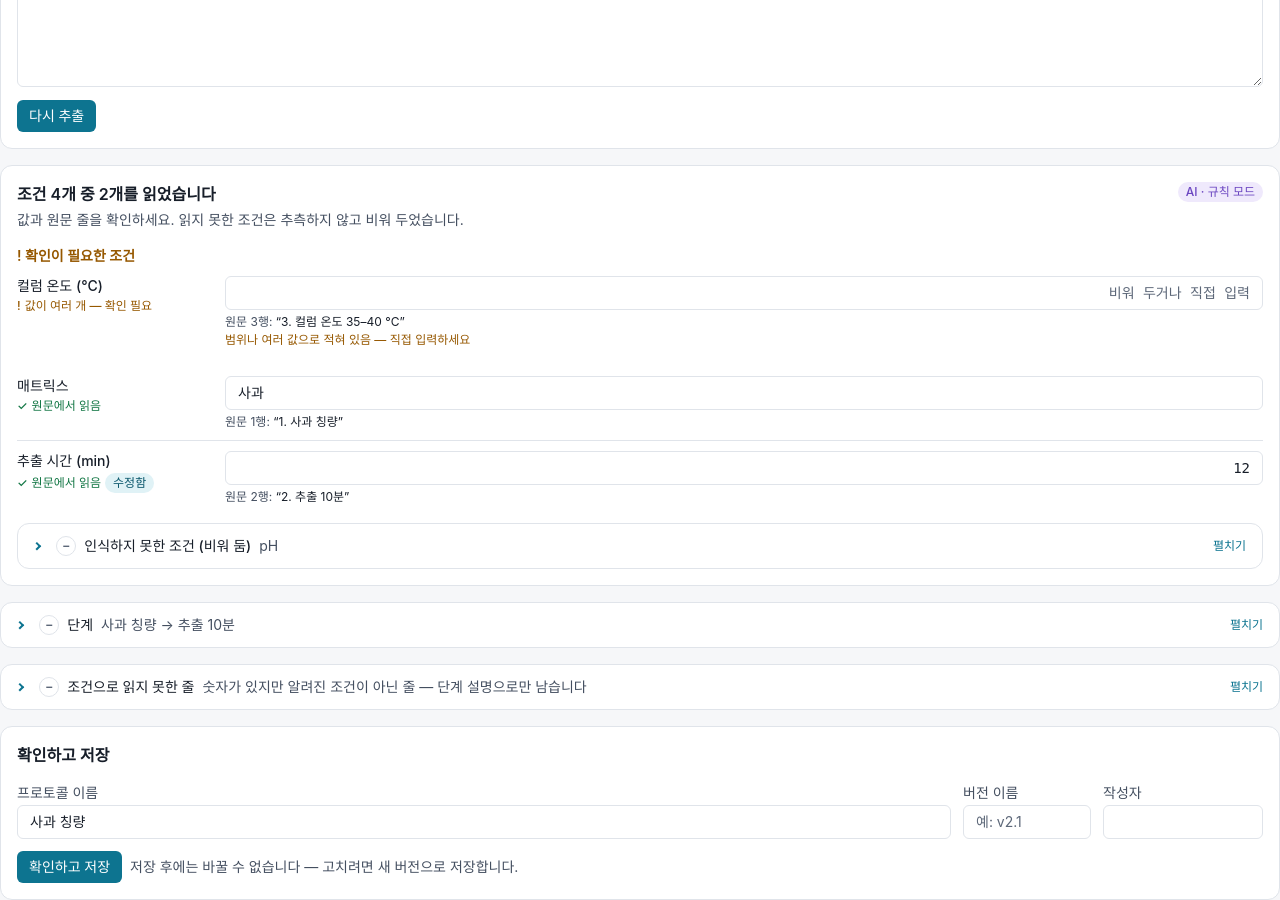
PasteView › saves the confirmed block with the pasted original and the reviewed candidates
Earlier steps of the test are not shown.
(page scrolled)
Step 1. Click the button "확인하고 저장" → (70,867), box [17, 851, 122, 883]
(page scrolled)
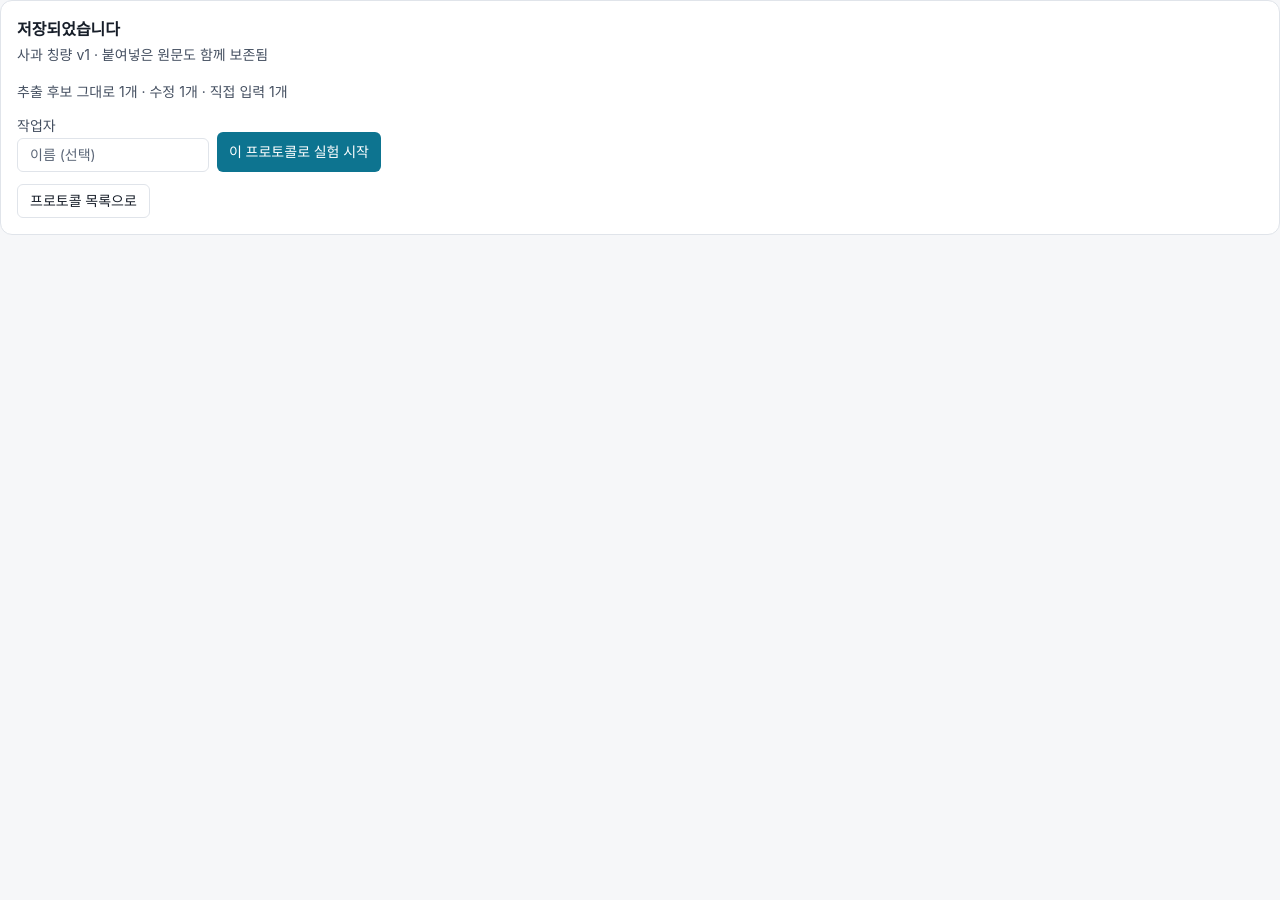
Now the heading "저장되었습니다" is shown, box [17, 19, 120, 39]
